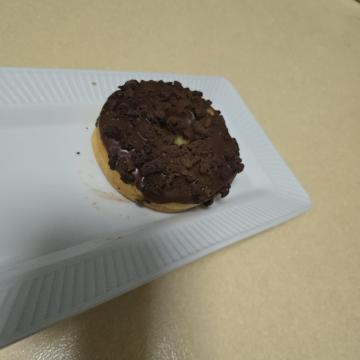doughnut: (52, 100, 232, 282)
